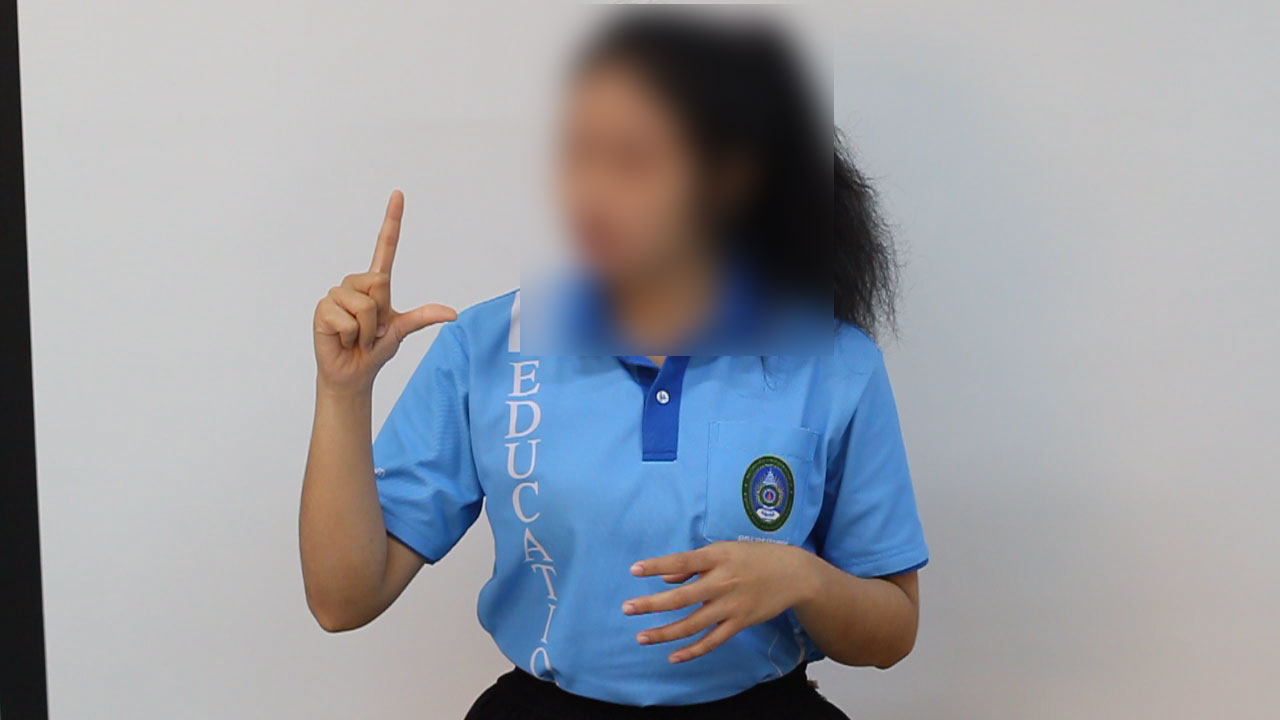lor: (307, 180, 475, 387)
